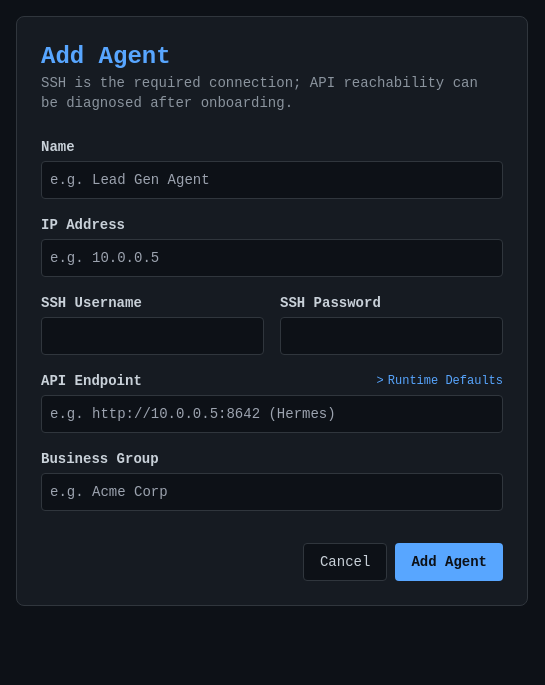
Test: AddAgent › displays SSH_AUTH_FAILED error
The image size is (545, 685).
Type "New Agent" into the field labelled "Name".
click(272, 180); type("New Agent")  # box [41,161,503,199]
Type "10.0.0.1" into the field labelled "IP Address".
click(272, 258); type("10.0.0.1")  # box [41,239,503,277]
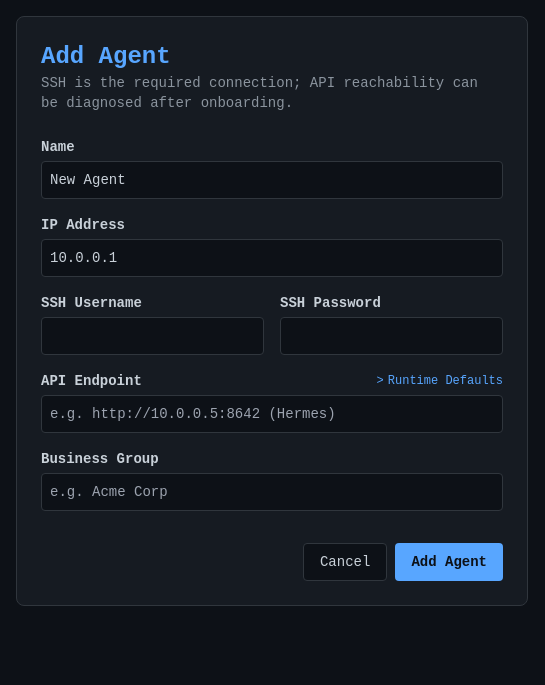
Type "admin" into the field labelled "SSH Username".
click(152, 336); type("admin")  # box [41,317,264,355]
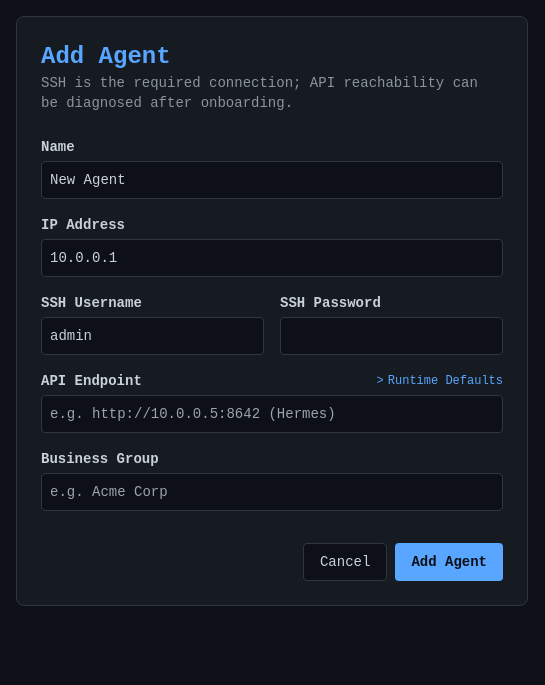
Type "pass" into the password field labelled "SSH Password".
click(392, 336); type("pass")  # box [280,317,503,355]
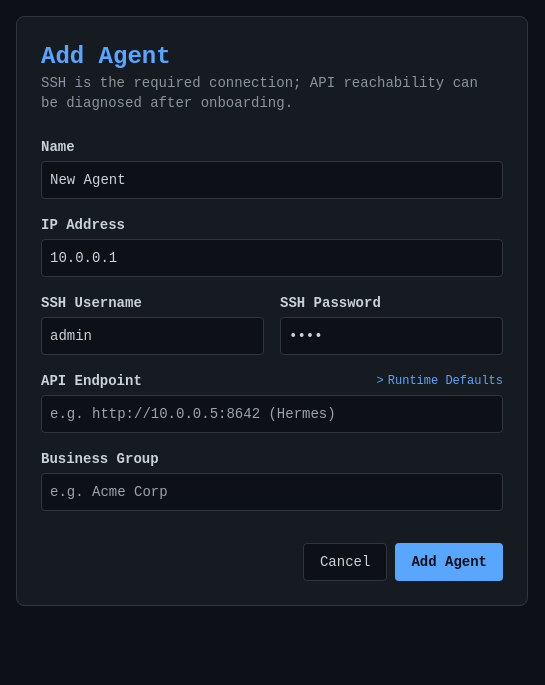
Type "http://10.0.0.1" into the field labelled "API Endpoint".
click(272, 414); type("http://10.0.0.1")  # box [41,395,503,433]
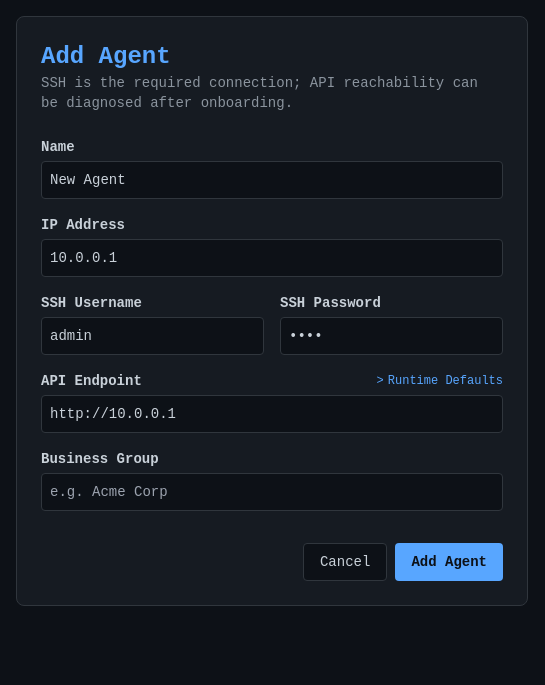
Type "Acme" into the field labelled "Business Group".
click(272, 492); type("Acme")  # box [41,473,503,511]
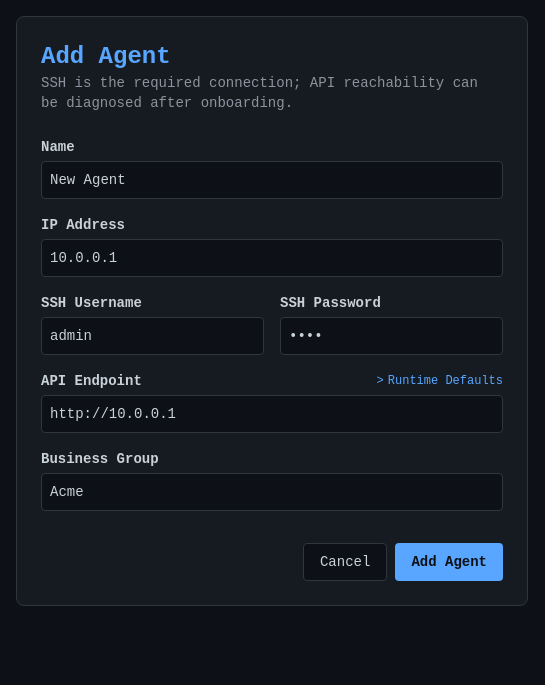
Click the button "Add Agent".
click(449, 562)  # box [395,543,503,581]
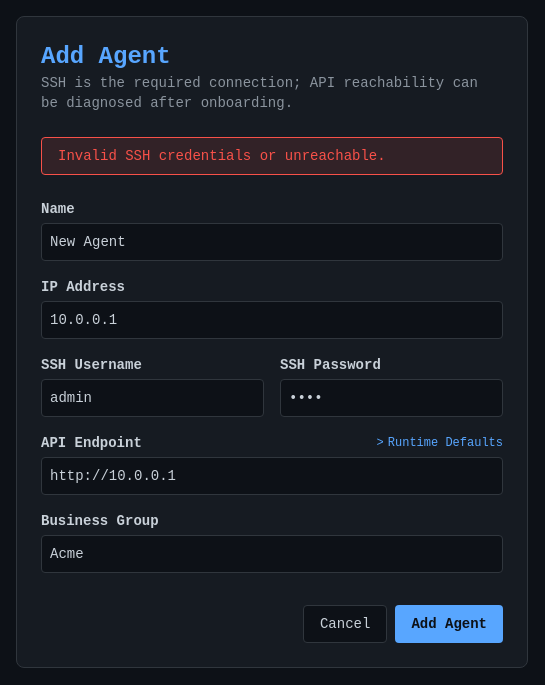
Expected: the text "Invalid SSH credentials or unreachable." is shown, [41,137,503,175]
